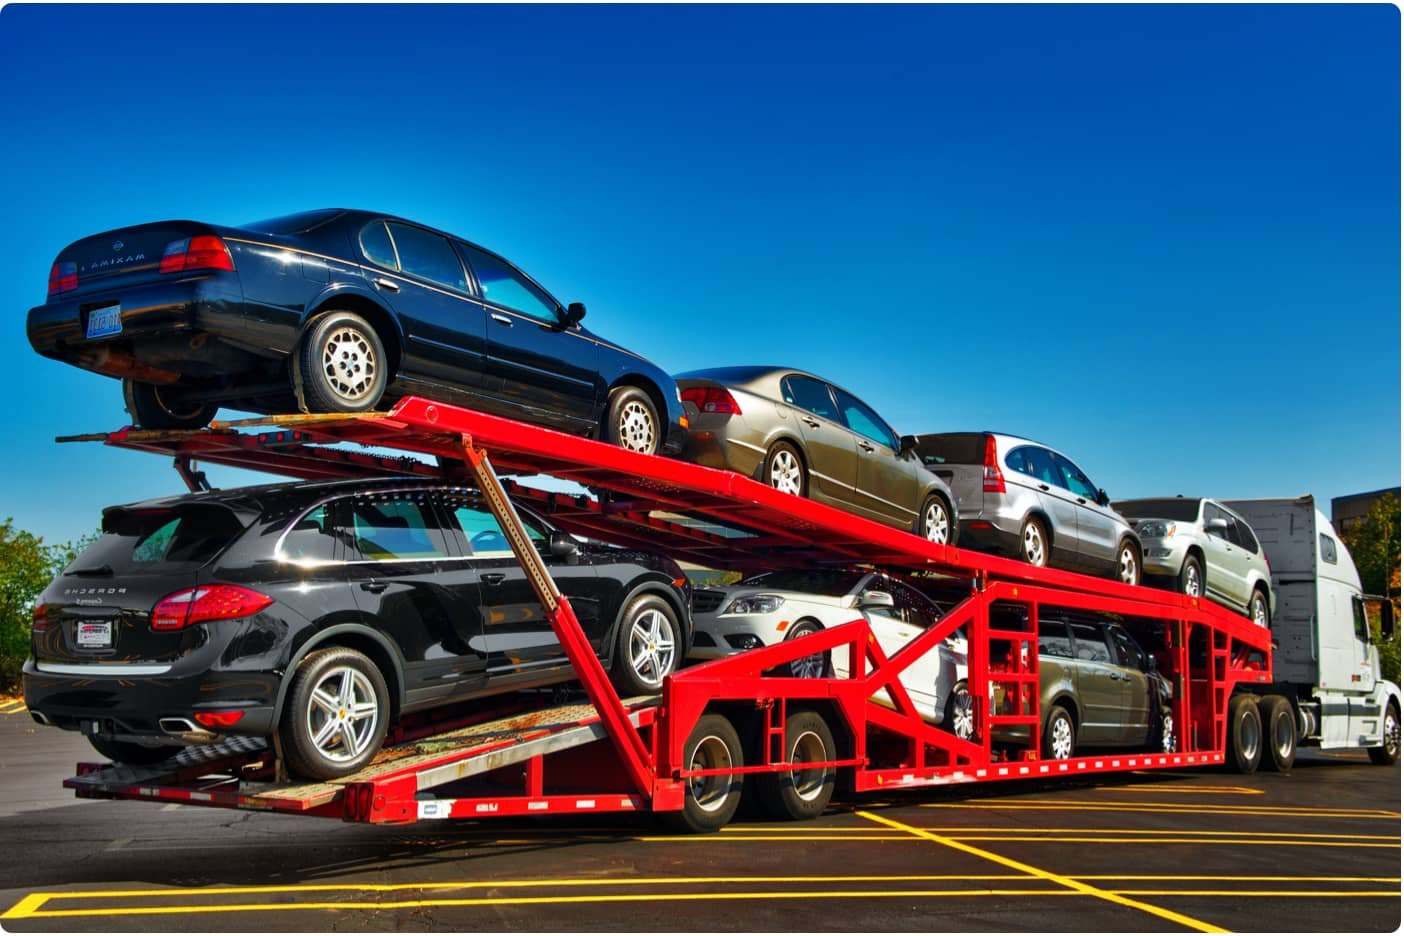car: (18, 476, 678, 793), (31, 191, 685, 483), (668, 333, 957, 556), (691, 549, 1002, 747), (910, 430, 1146, 593), (987, 621, 1168, 765), (1116, 479, 1279, 625)
